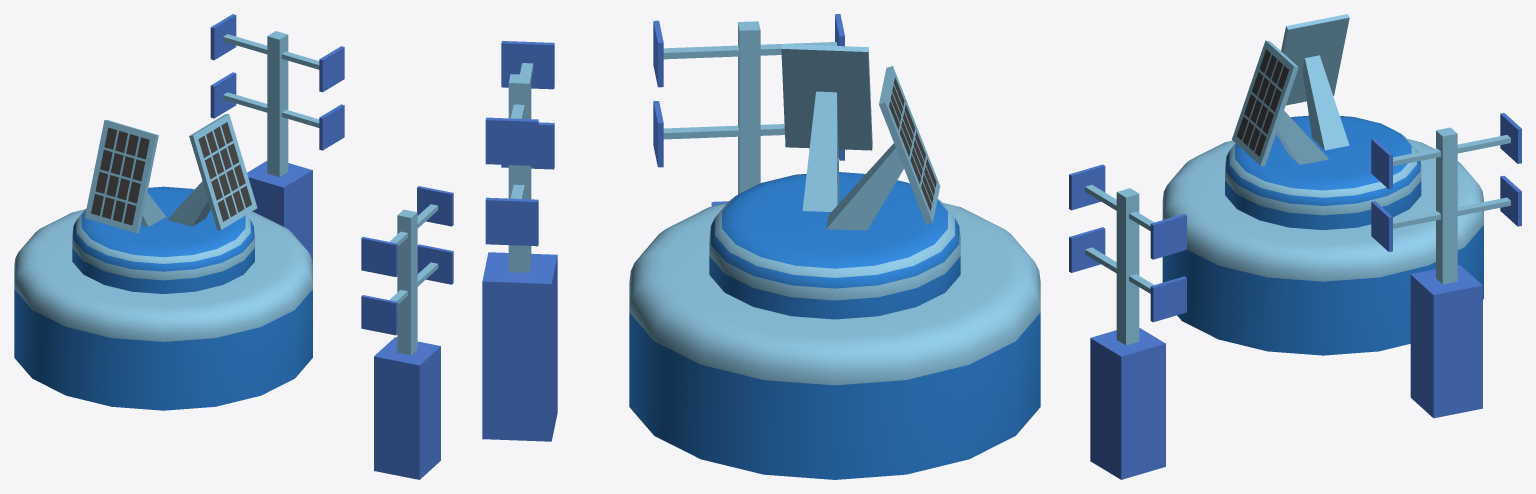
The model's file is M_Stalitte_prop.fbx.
3 views of the same model, side by side, from view 1: azimuth 30°, elevation 25°; view 2: azimuth 150°, elevation 25°; view 3: azimuth 270°, elevation 25° (orthographic). The views are drawn at different scales.
Visible parts, largest first — view 1: M_Stalitte_prop; view 2: M_Stalitte_prop; view 3: M_Stalitte_prop.
Part boxes in pixels (x1=…): M_Stalitte_prop: x1=14, y1=14, x2=453, y2=479; M_Stalitte_prop: x1=482, y1=14, x2=1040, y2=479; M_Stalitte_prop: x1=1069, y1=14, x2=1521, y2=479.
Bounding box in the file's own units: 15.66 × 13.98 × 16.66.
Materials: 1 (1 with a texture image).
